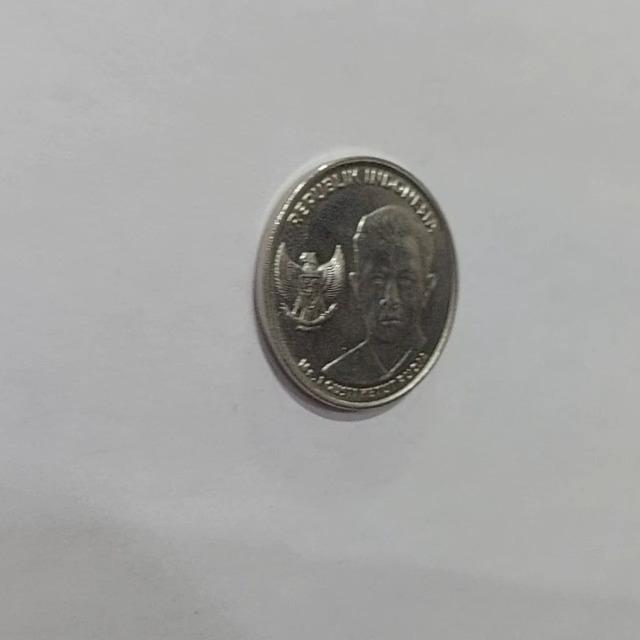Rp100: (252, 152, 460, 416)
